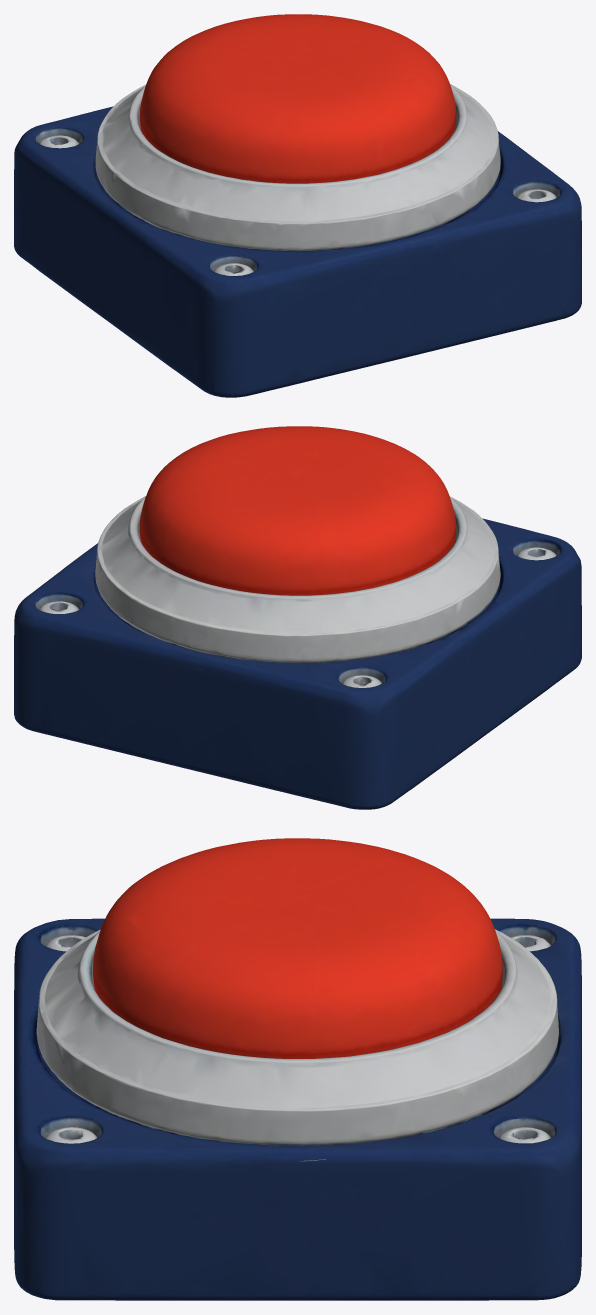
Rendered from button.glb.
3 renders of one model, top to bottom at view 1: azimuth 30°, elevation 25°; view 2: azimuth 150°, elevation 25°; view 3: azimuth 270°, elevation 25°, orthographic. The views are drawn at different scales.
Parts seen in each view (by area): view 1: tripo_node_8fd56da2-0c5e-4c9e-b5bd-59ff51079300; view 2: tripo_node_8fd56da2-0c5e-4c9e-b5bd-59ff51079300; view 3: tripo_node_8fd56da2-0c5e-4c9e-b5bd-59ff51079300.
Part boxes in pixels (left/top/right/bottom): tripo_node_8fd56da2-0c5e-4c9e-b5bd-59ff51079300: left=14, top=14, right=581, bottom=397; tripo_node_8fd56da2-0c5e-4c9e-b5bd-59ff51079300: left=14, top=426, right=581, bottom=809; tripo_node_8fd56da2-0c5e-4c9e-b5bd-59ff51079300: left=14, top=838, right=581, bottom=1300.
Size of the model in its own units: 0.9992 by 0.5673 by 1.
Materials: 1 (1 with a texture image).
